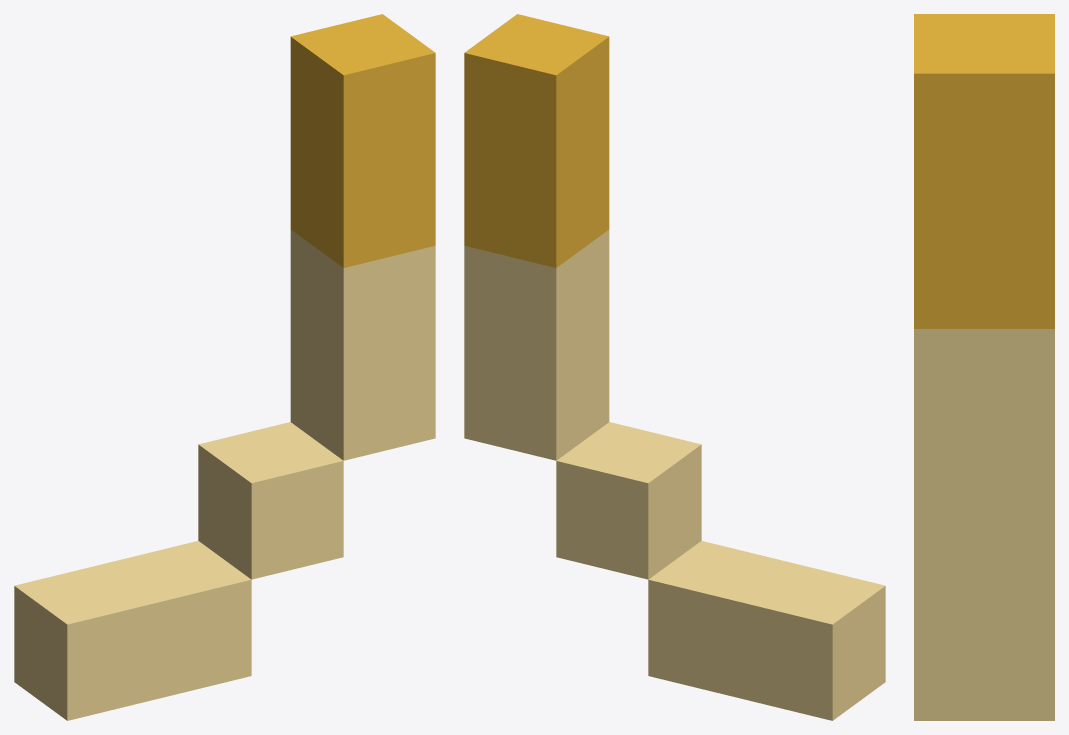
Rendered from thymea-15-left_hand_attack.obj.
3 renders of one model, left to right at view 1: azimuth 30°, elevation 25°; view 2: azimuth 150°, elevation 25°; view 3: azimuth 270°, elevation 25°, orthographic. The views are drawn at different scales.
Parts seen in each view (by area): view 1: left_hand_attack; view 2: left_hand_attack; view 3: left_hand_attack.
Boxes of the visible parts, box(x1,y1,x2,y2) form: left_hand_attack: box(14, 14, 435, 720); left_hand_attack: box(464, 14, 885, 720); left_hand_attack: box(914, 14, 1054, 720).
Size of the model in its own units: 0.4 by 0.6 by 0.1.
1 material, 1 textured.
